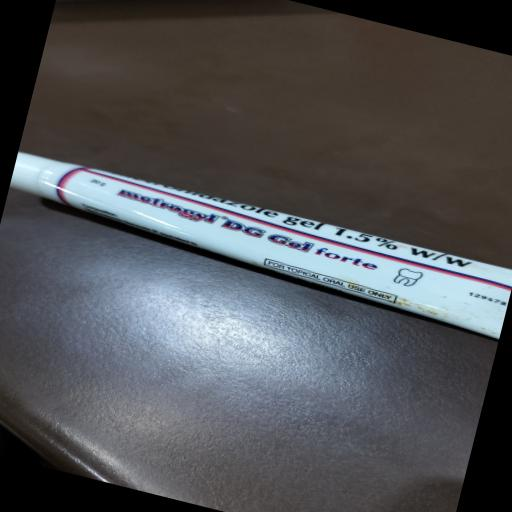medicine: (4, 149, 512, 330)
metrogyl-DG-Gel: (104, 179, 441, 284)
